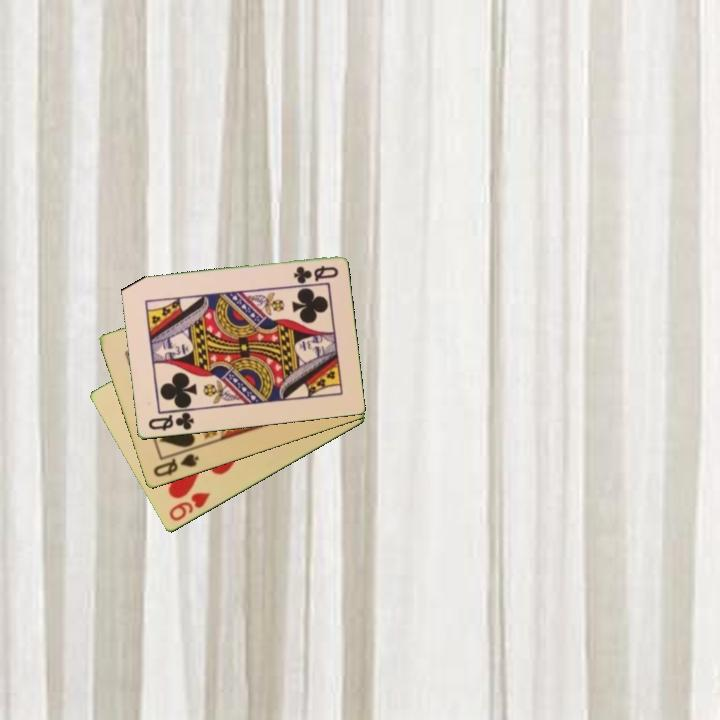9h: (165, 489, 213, 525)
Qc: (145, 407, 197, 434), (290, 263, 341, 285)
Qs: (149, 450, 201, 480)
